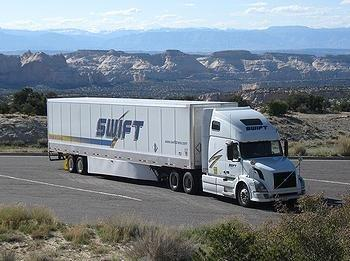truck: (39, 85, 310, 214)
